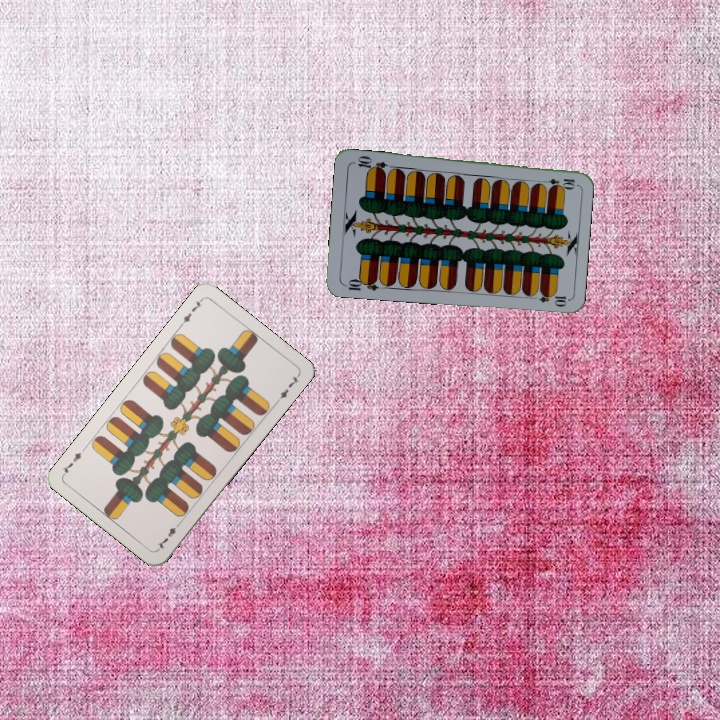E10: (340, 274, 381, 293), (537, 174, 577, 189)
E7: (153, 518, 183, 552), (176, 295, 205, 329)
